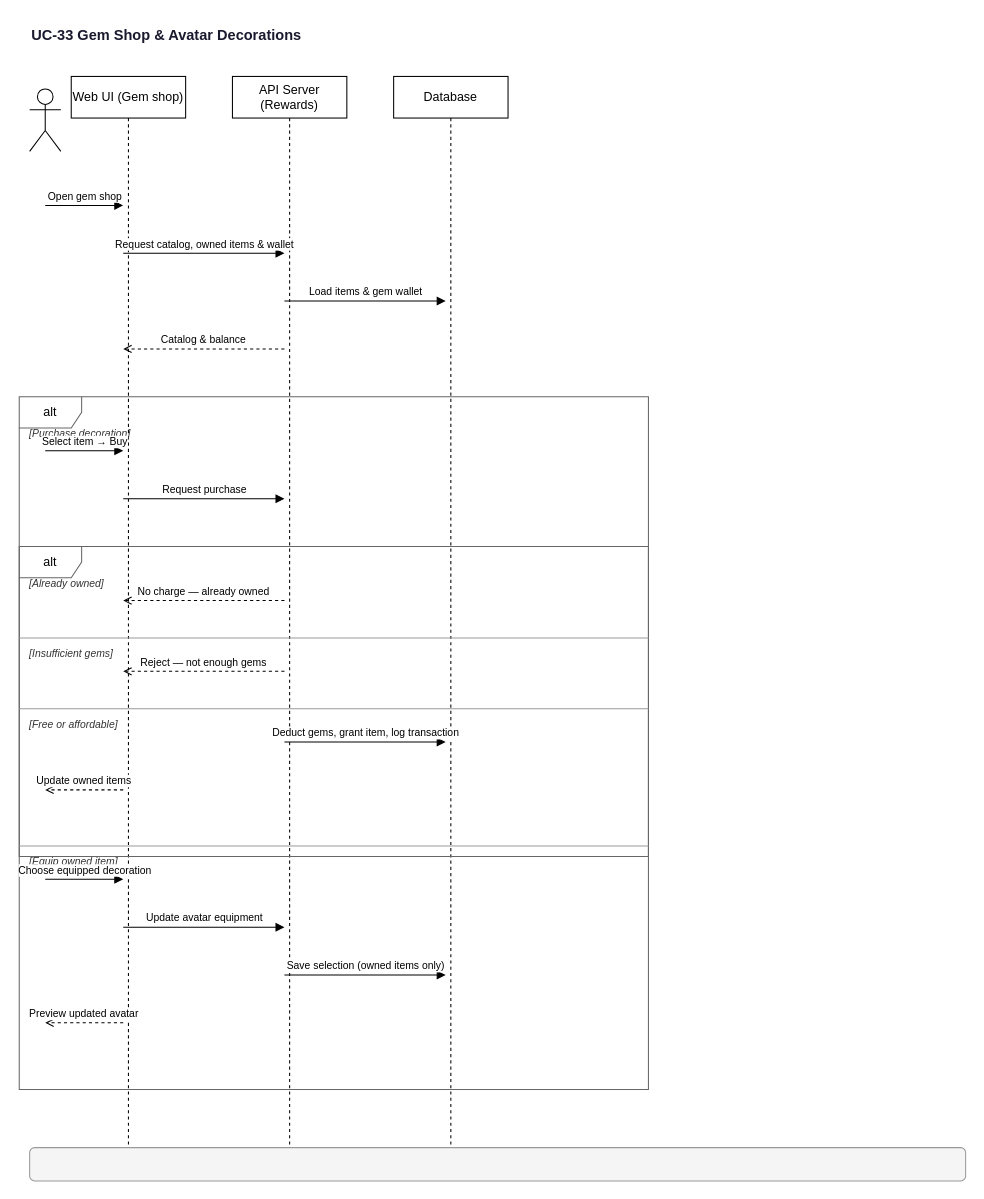
The diagram is 984 pixels wide and 1199 high, and some of its shapes have lost their labels. The centre of each missing label's shape, as x and y in pixels:
"Cosmo Learn — UC-33 Gem Shop & Avatar Decorations" belongs at point (497, 1164).
"Student" belongs at point (45, 119).
